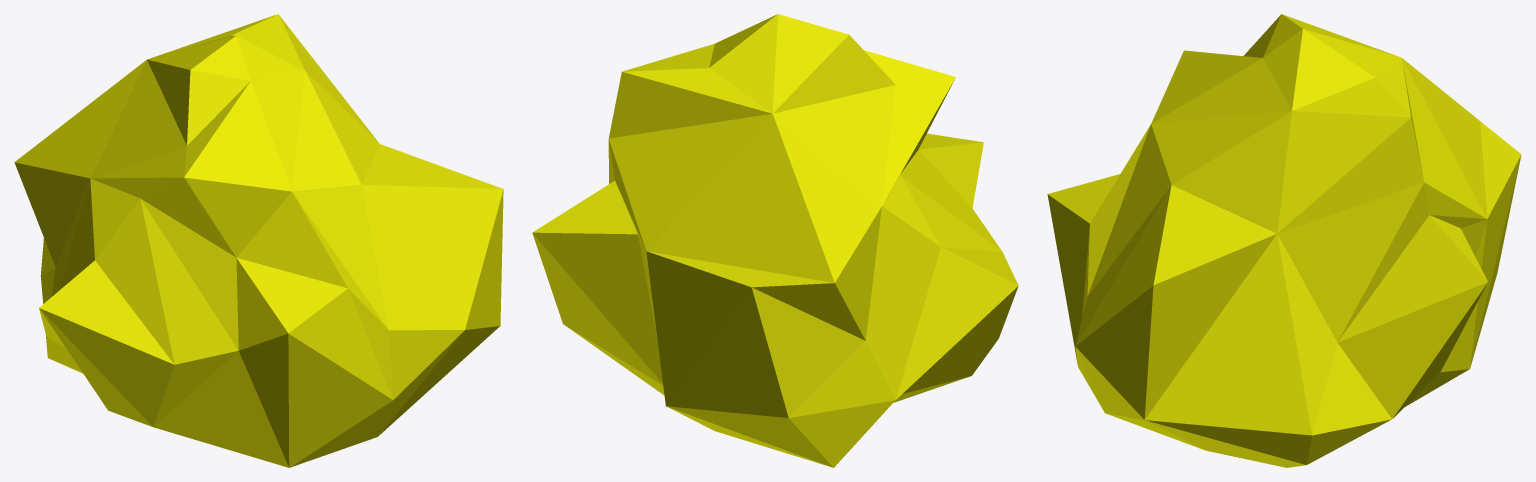
The model's file is SM_Env_Bush_01.glb.
3 renders of one model, left to right at view 1: azimuth 30°, elevation 25°; view 2: azimuth 150°, elevation 25°; view 3: azimuth 270°, elevation 25°, orthographic. The views are drawn at different scales.
Parts seen in each view (by area): view 1: SM_Env_Bush_01; view 2: SM_Env_Bush_01; view 3: SM_Env_Bush_01.
Boxes of the visible parts, x1,y1,x2,y2 form: SM_Env_Bush_01: (14, 14, 503, 467); SM_Env_Bush_01: (532, 14, 1018, 467); SM_Env_Bush_01: (1047, 14, 1521, 467).
Size of the model in its own units: 2.08 by 1.87 by 2.
1 material, 1 textured.
